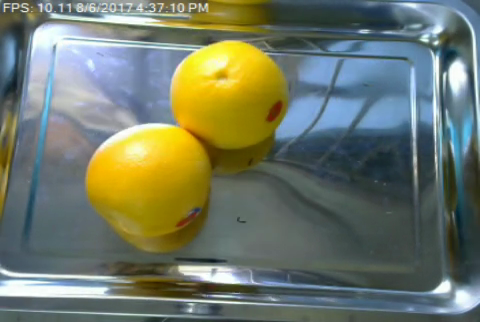Orange: (83, 123, 211, 234), (169, 39, 290, 148)
